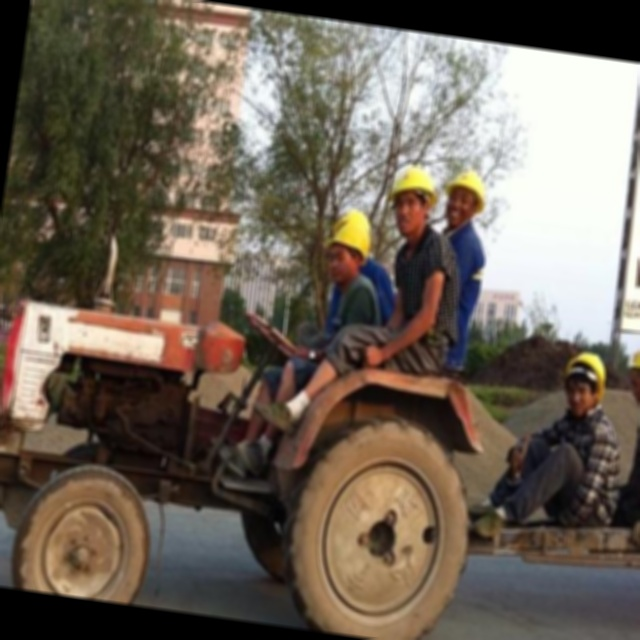Con_Casco: (378, 160, 441, 242)
